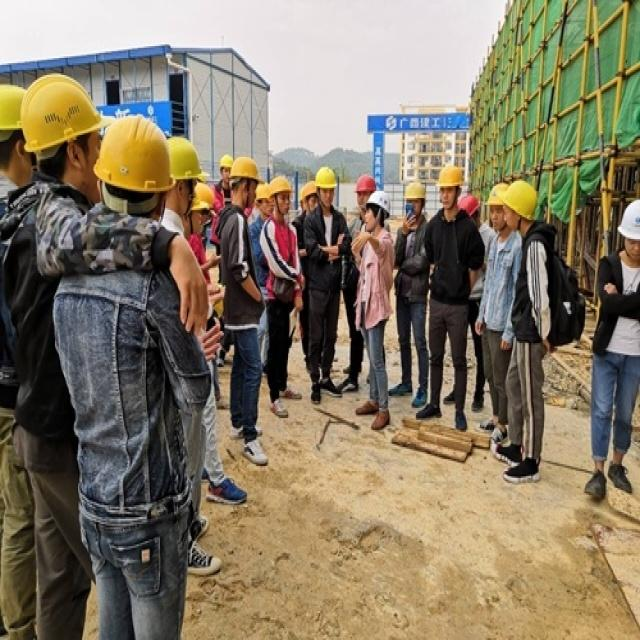helmet: (21, 83, 100, 257), (95, 157, 172, 292), (2, 110, 33, 258), (161, 176, 199, 289), (502, 240, 538, 308), (228, 210, 259, 274), (617, 263, 640, 349), (435, 217, 464, 283), (364, 256, 391, 311), (314, 221, 338, 276), (487, 246, 507, 310), (269, 233, 292, 288), (404, 239, 427, 289), (185, 257, 204, 316), (458, 258, 480, 306), (354, 232, 376, 277), (254, 244, 274, 289), (302, 247, 319, 285), (219, 203, 233, 245)
